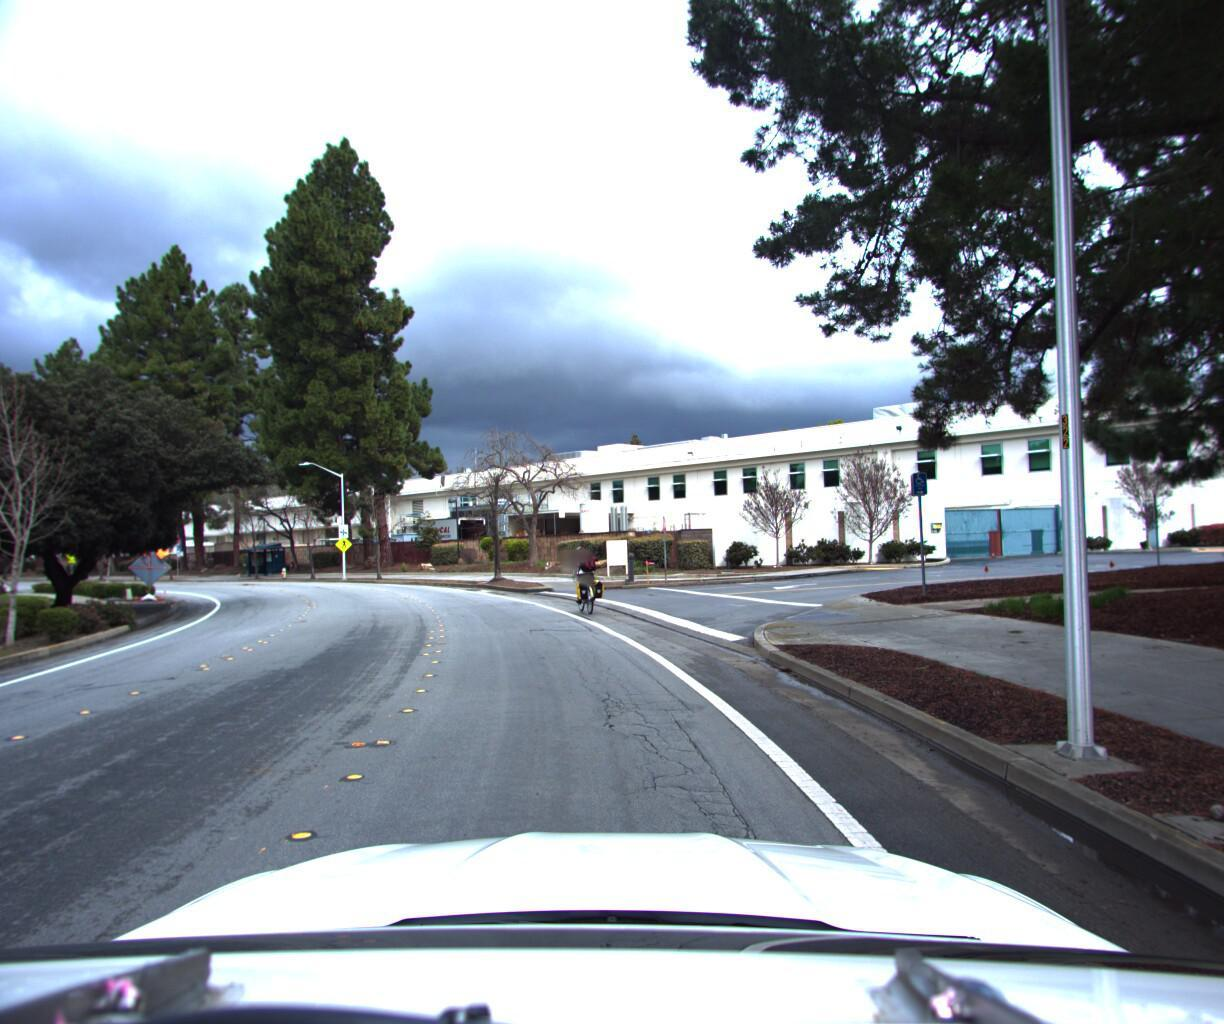bicycle: (557, 543, 608, 616)
truck: (406, 511, 492, 557)
